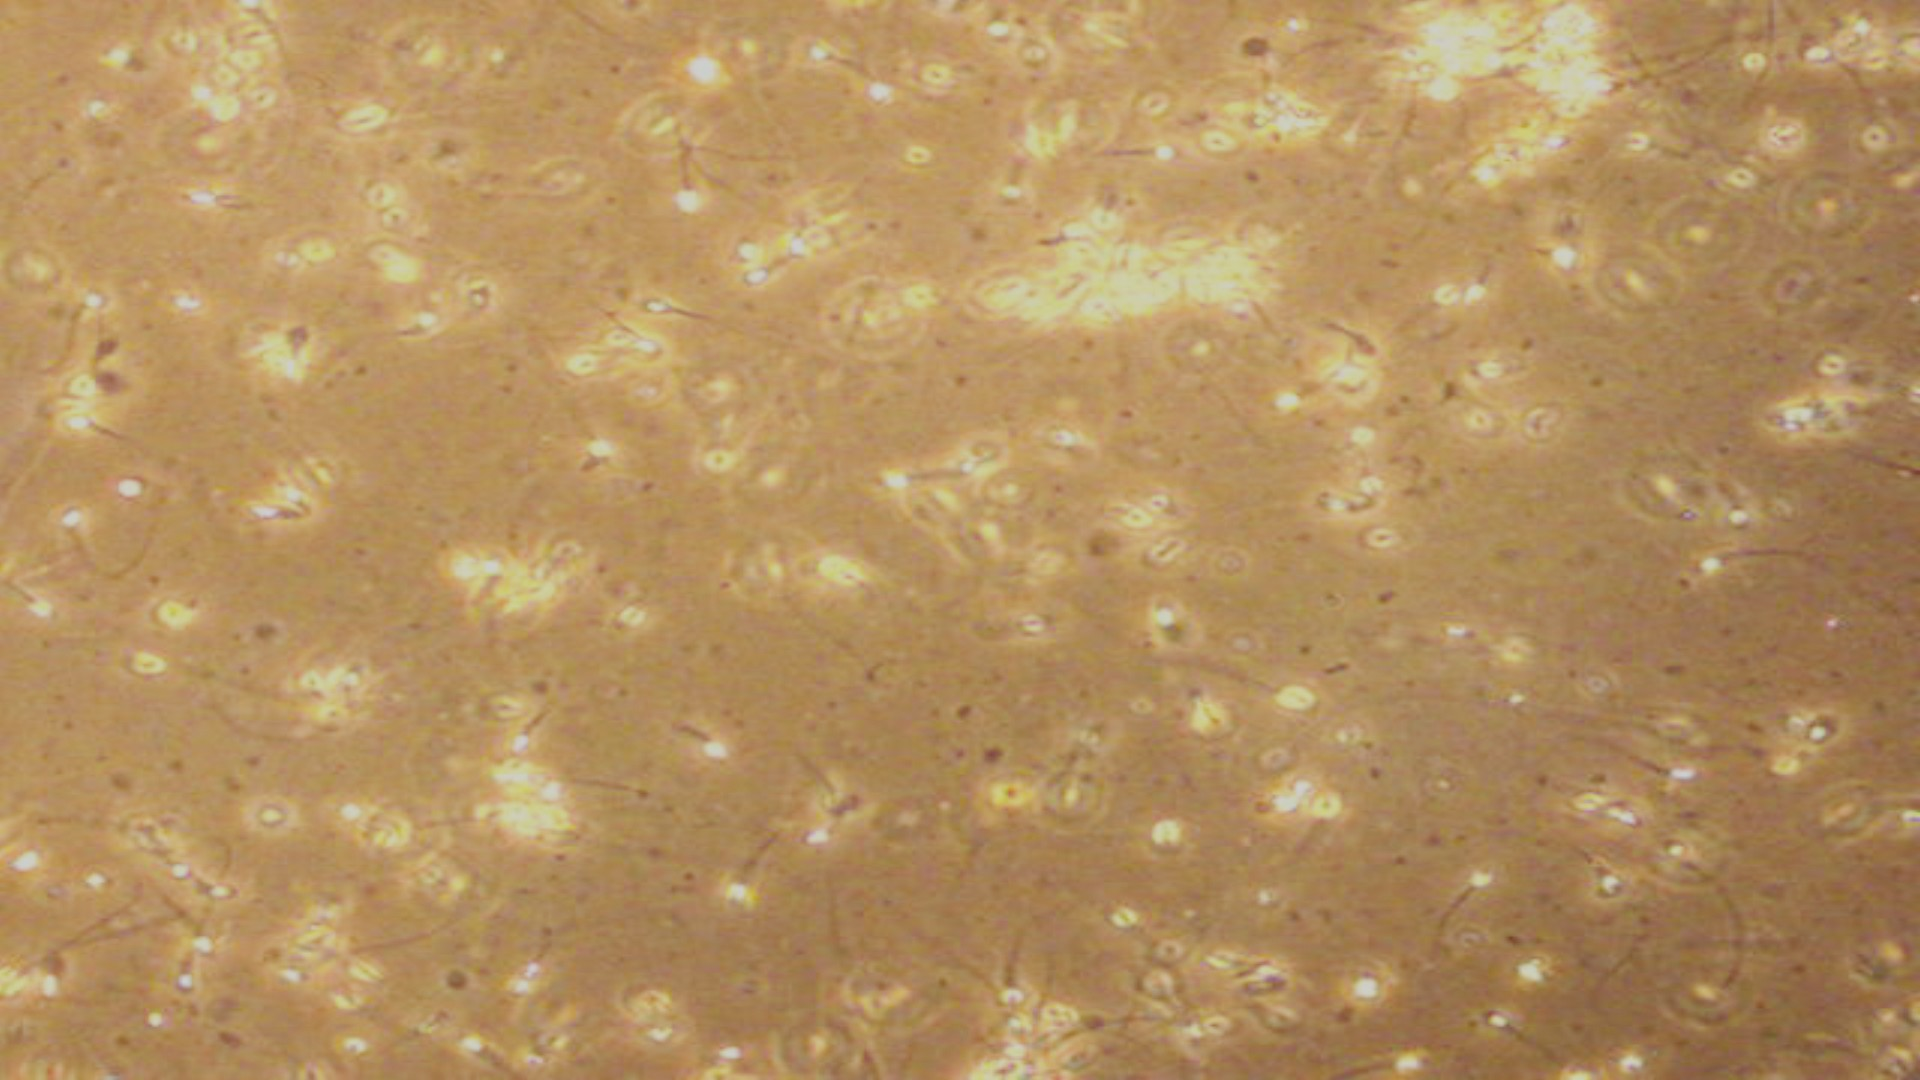sperm: (38, 489, 203, 625), (1659, 527, 1828, 617), (1474, 1004, 1634, 1079), (723, 245, 878, 316), (59, 400, 189, 481), (864, 443, 1007, 514), (636, 291, 753, 360), (642, 684, 723, 782), (1672, 938, 1750, 1025), (793, 760, 856, 866), (799, 40, 890, 113), (1683, 127, 1772, 199), (1065, 132, 1193, 181), (657, 135, 723, 218), (1345, 1031, 1445, 1080), (1422, 870, 1490, 942), (1700, 471, 1770, 538), (146, 893, 215, 959), (1282, 789, 1345, 858), (1002, 938, 1038, 1021), (142, 833, 193, 891)
